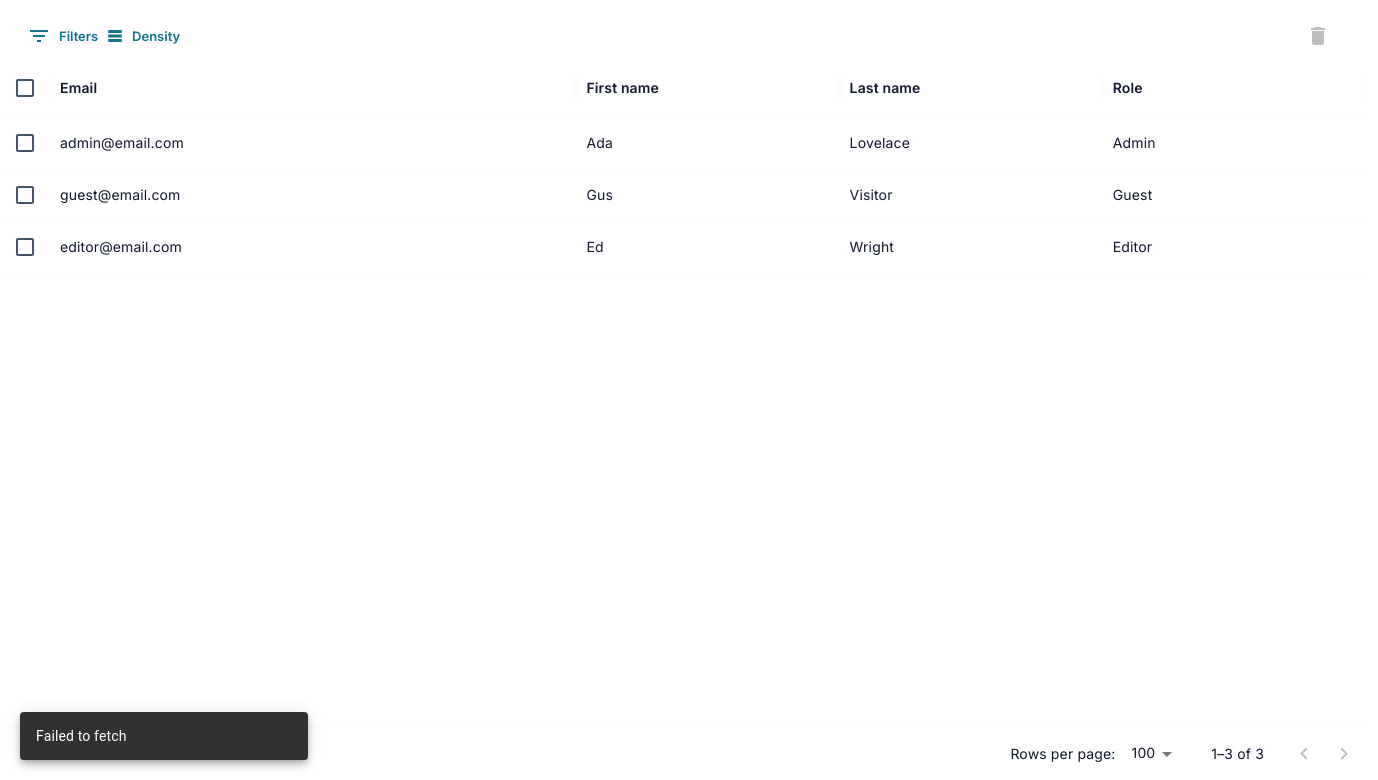
Test: UserList › changing a role › shows the error when assigning the role fails
The image size is (1378, 780).
Expected: the text "guest@email.com" is shown, [50, 168, 576, 220]
Double-click the text "Guest" at (1234, 194), box [1103, 168, 1366, 220]
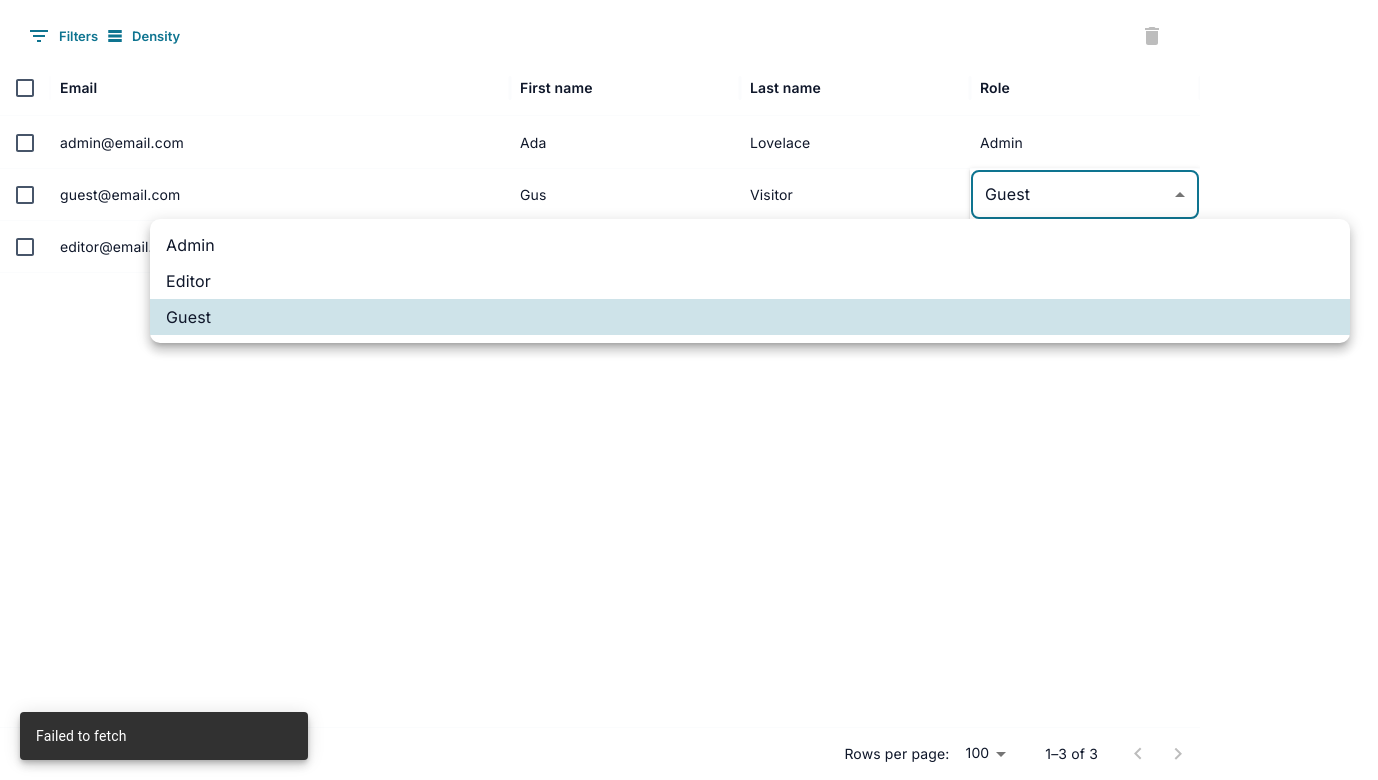
Click the option "Admin" at (190, 245), box [166, 235, 215, 255]
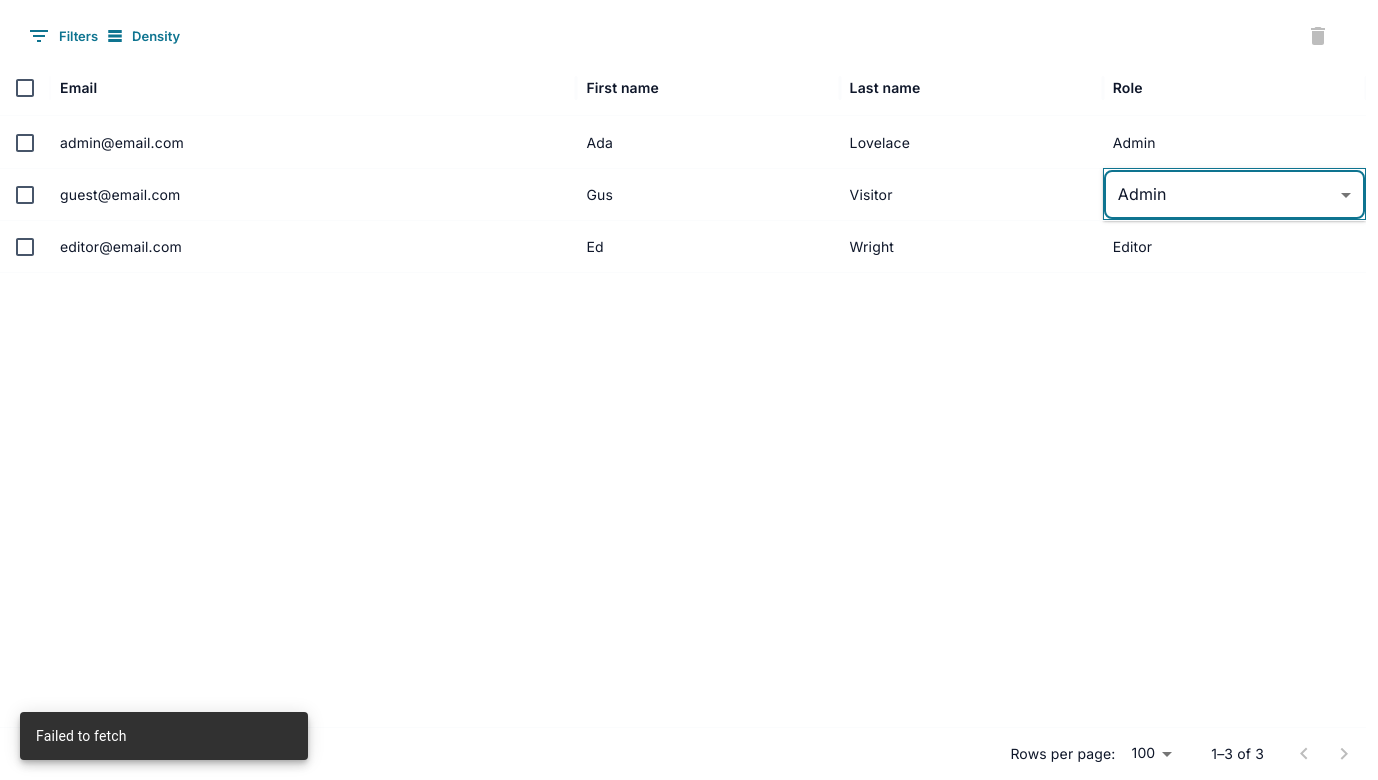
Press Enter
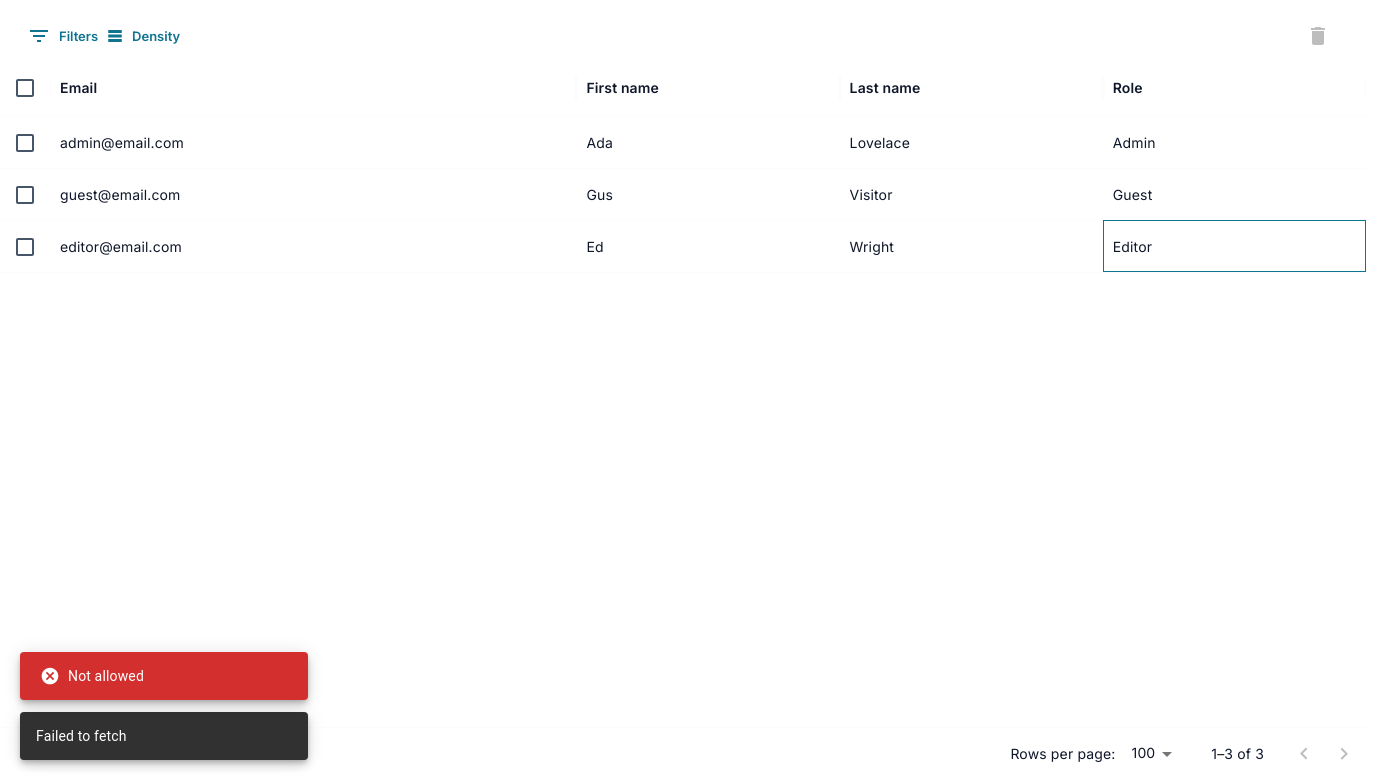
Now the text "Not allowed" is shown, box [40, 666, 144, 686]
